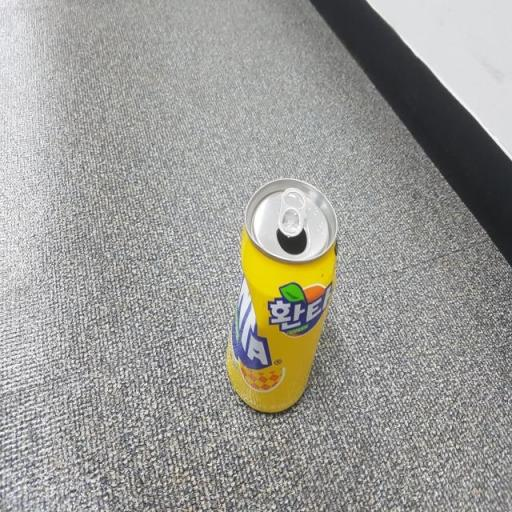metal: (207, 148, 349, 474)
